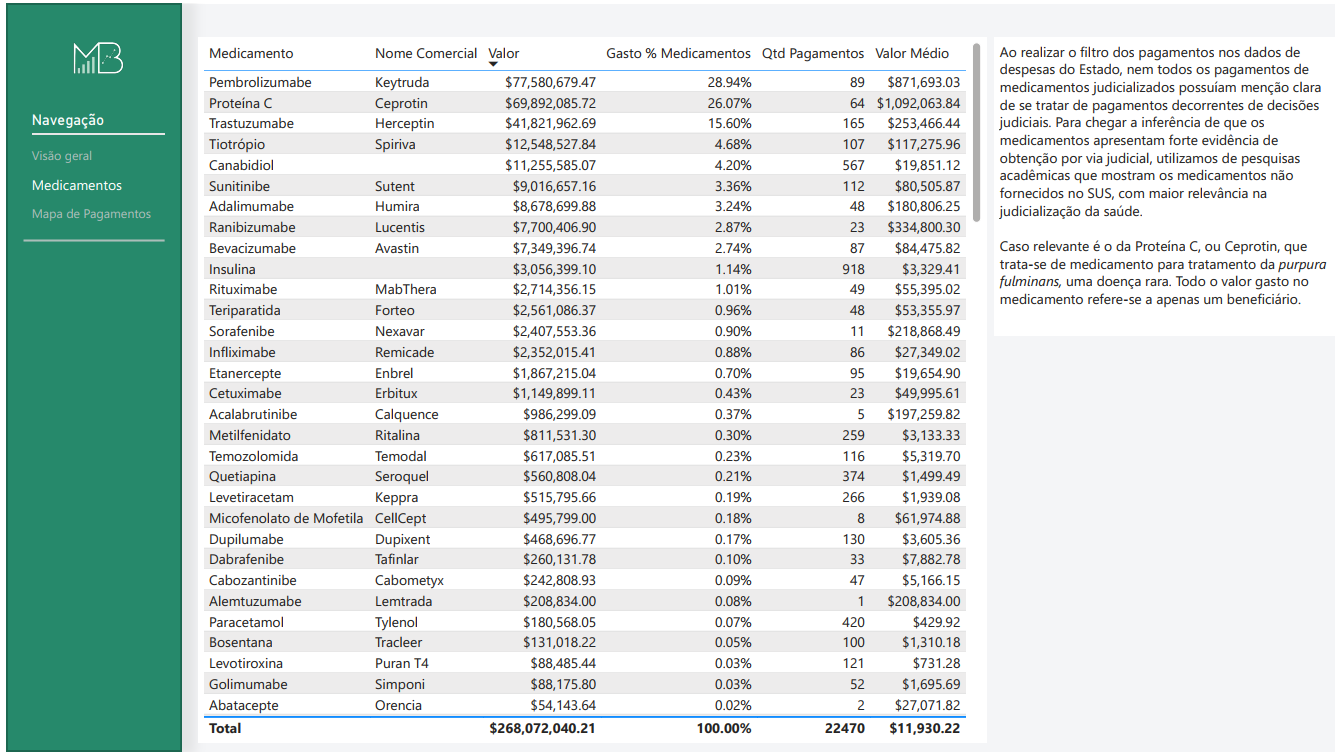

What the dashboard file says about the page in this screenshot:
{"tool":"powerbi","page":{"name":"Medicamentos","canvas":[1280,720],"ordinal":1},"visuals":[{"type":"shape","box":[0,0,168,720],"z":0},{"type":"tableEx","fields":{"Values":["Lista de Medicamentos.substancia_ativa","Lista de Medicamentos.nome_comercial","Visão Judicialização.Valor Medicamento","Visão Judicialização.Gasto % Medicamentos","Visão Judicialização.Qtd Pagamentos Med","Visão Judicialização.Valor Médio Med"]},"box":[184,32,760,680],"z":1000},{"type":"textbox","box":[952,32,328,288],"z":2000},{"type":"pageNavigator","title":"Navegação","box":[24,104,128,112],"z":3000},{"type":"image","box":[64,24,48,56],"z":4000},{"type":"shape","box":[16,216,136,24],"z":5000}]}

Visuals, with their boxes on the page's 1280x720 design canvas (x1, y1, x2, y2). These are canvas units, not pixel positions in the 1337x754 screenshot, which may show the page scaled, cropped or inside an application window:
shape: locate(0, 0, 168, 720)
tableEx - Lista de Medicamentos.substancia_ativa x Lista de Medicamentos.nome_comercial: locate(184, 32, 944, 712)
textbox: locate(952, 32, 1280, 320)
"Navegação" pageNavigator: locate(24, 104, 152, 216)
image: locate(64, 24, 112, 80)
shape: locate(16, 216, 152, 240)
